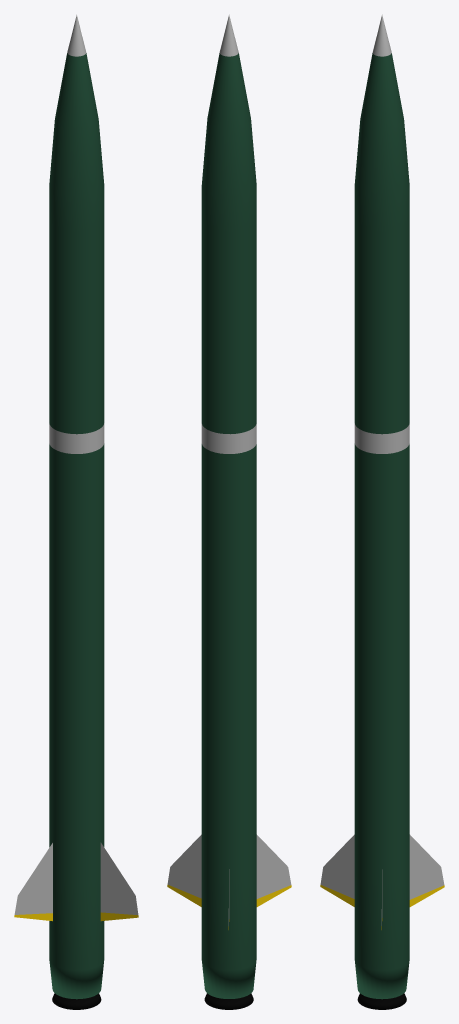
Rendered from rocket_legacy3.v2.glb.
3 renders of one model, left to right at view 1: azimuth 90°, elevation 25°; view 2: azimuth 150°, elevation 25°; view 3: azimuth 270°, elevation 25°, orthographic.
Visible parts, largest first — view 1: Cylinder, Plane.001, Plane.003; view 2: Cylinder, Plane.001, Plane.002; view 3: Cylinder, Plane.003, Plane.001.
Part boxes in pixels (<box>): Cylinder: <box>49,14,104,1009</box>; Plane.001: <box>100,842,138,921</box>; Plane.003: <box>14,843,52,921</box>; Cylinder: <box>201,14,256,1009</box>; Plane.001: <box>256,834,291,906</box>; Plane.002: <box>167,834,201,906</box>; Cylinder: <box>354,14,409,1009</box>; Plane.003: <box>409,834,444,906</box>; Plane.001: <box>320,834,354,906</box>.
Bounding box in the file's own units: 0.3939 × 3.95 × 0.4526.
